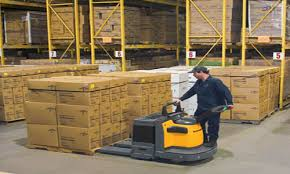Pallet Jack: (82, 99, 235, 164)
